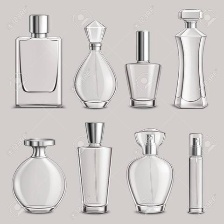bottle: (13, 11, 65, 112), (7, 134, 71, 216), (127, 123, 177, 215), (69, 20, 120, 110), (170, 6, 214, 110), (78, 118, 120, 216), (123, 22, 163, 110), (186, 130, 204, 215)
